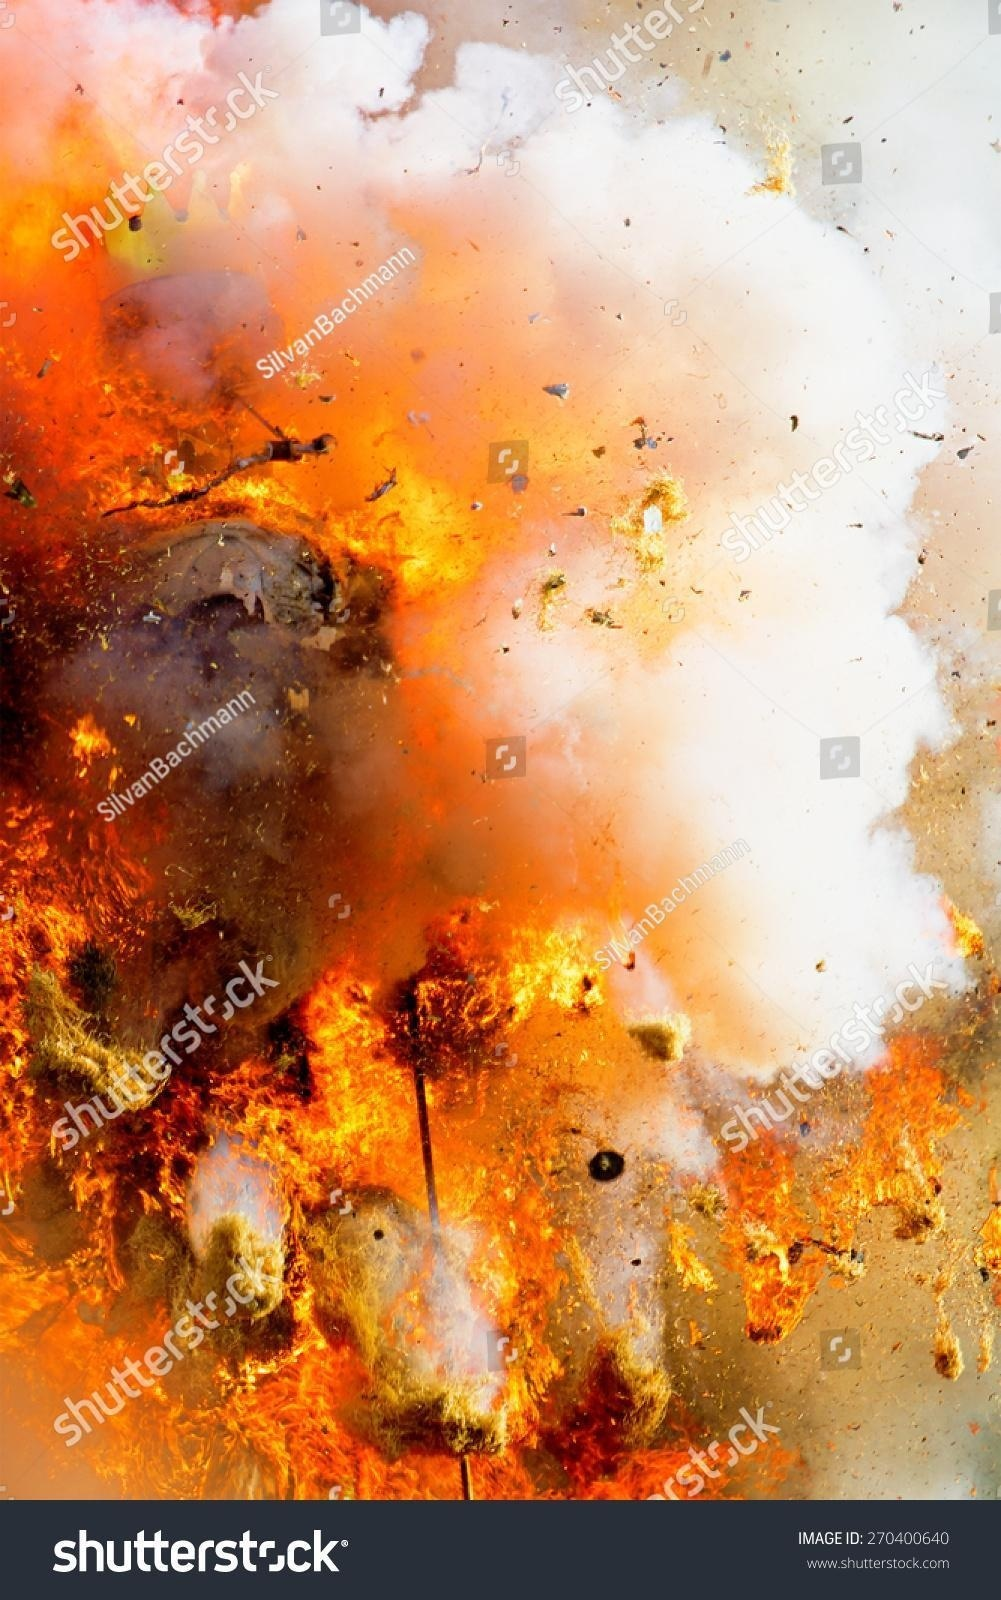fire: (38, 221, 989, 1432)
